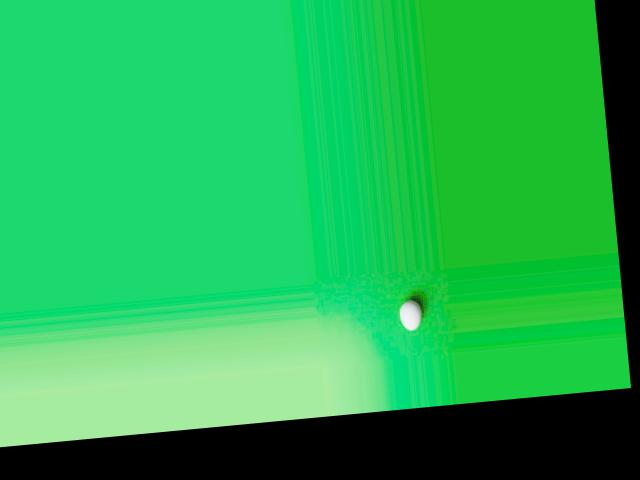egg: (398, 299, 422, 331)
